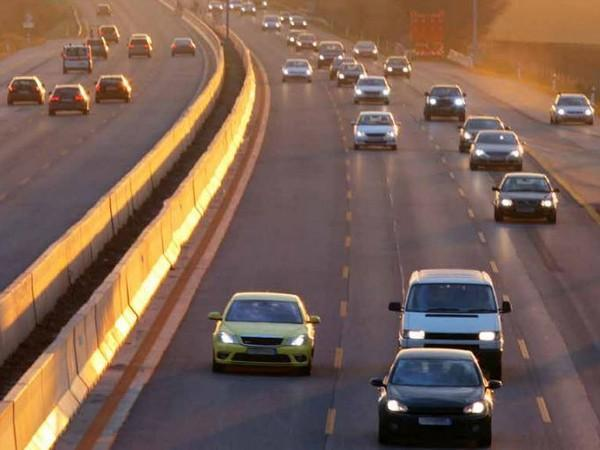car: (388, 264, 516, 383), (365, 349, 508, 450), (204, 285, 323, 371), (455, 108, 537, 172), (487, 165, 566, 228), (340, 107, 412, 156), (536, 85, 597, 134), (420, 82, 472, 128), (0, 73, 55, 110), (56, 37, 103, 78), (86, 72, 139, 107), (40, 79, 93, 113), (329, 54, 375, 92), (352, 72, 403, 106), (163, 29, 201, 68), (313, 38, 354, 73), (122, 30, 163, 62), (209, 2, 275, 19), (248, 15, 292, 40), (350, 36, 384, 68), (276, 53, 319, 78), (377, 53, 414, 82), (82, 33, 119, 59), (290, 30, 324, 58), (97, 19, 121, 46), (230, 0, 262, 19), (90, 3, 120, 20)
